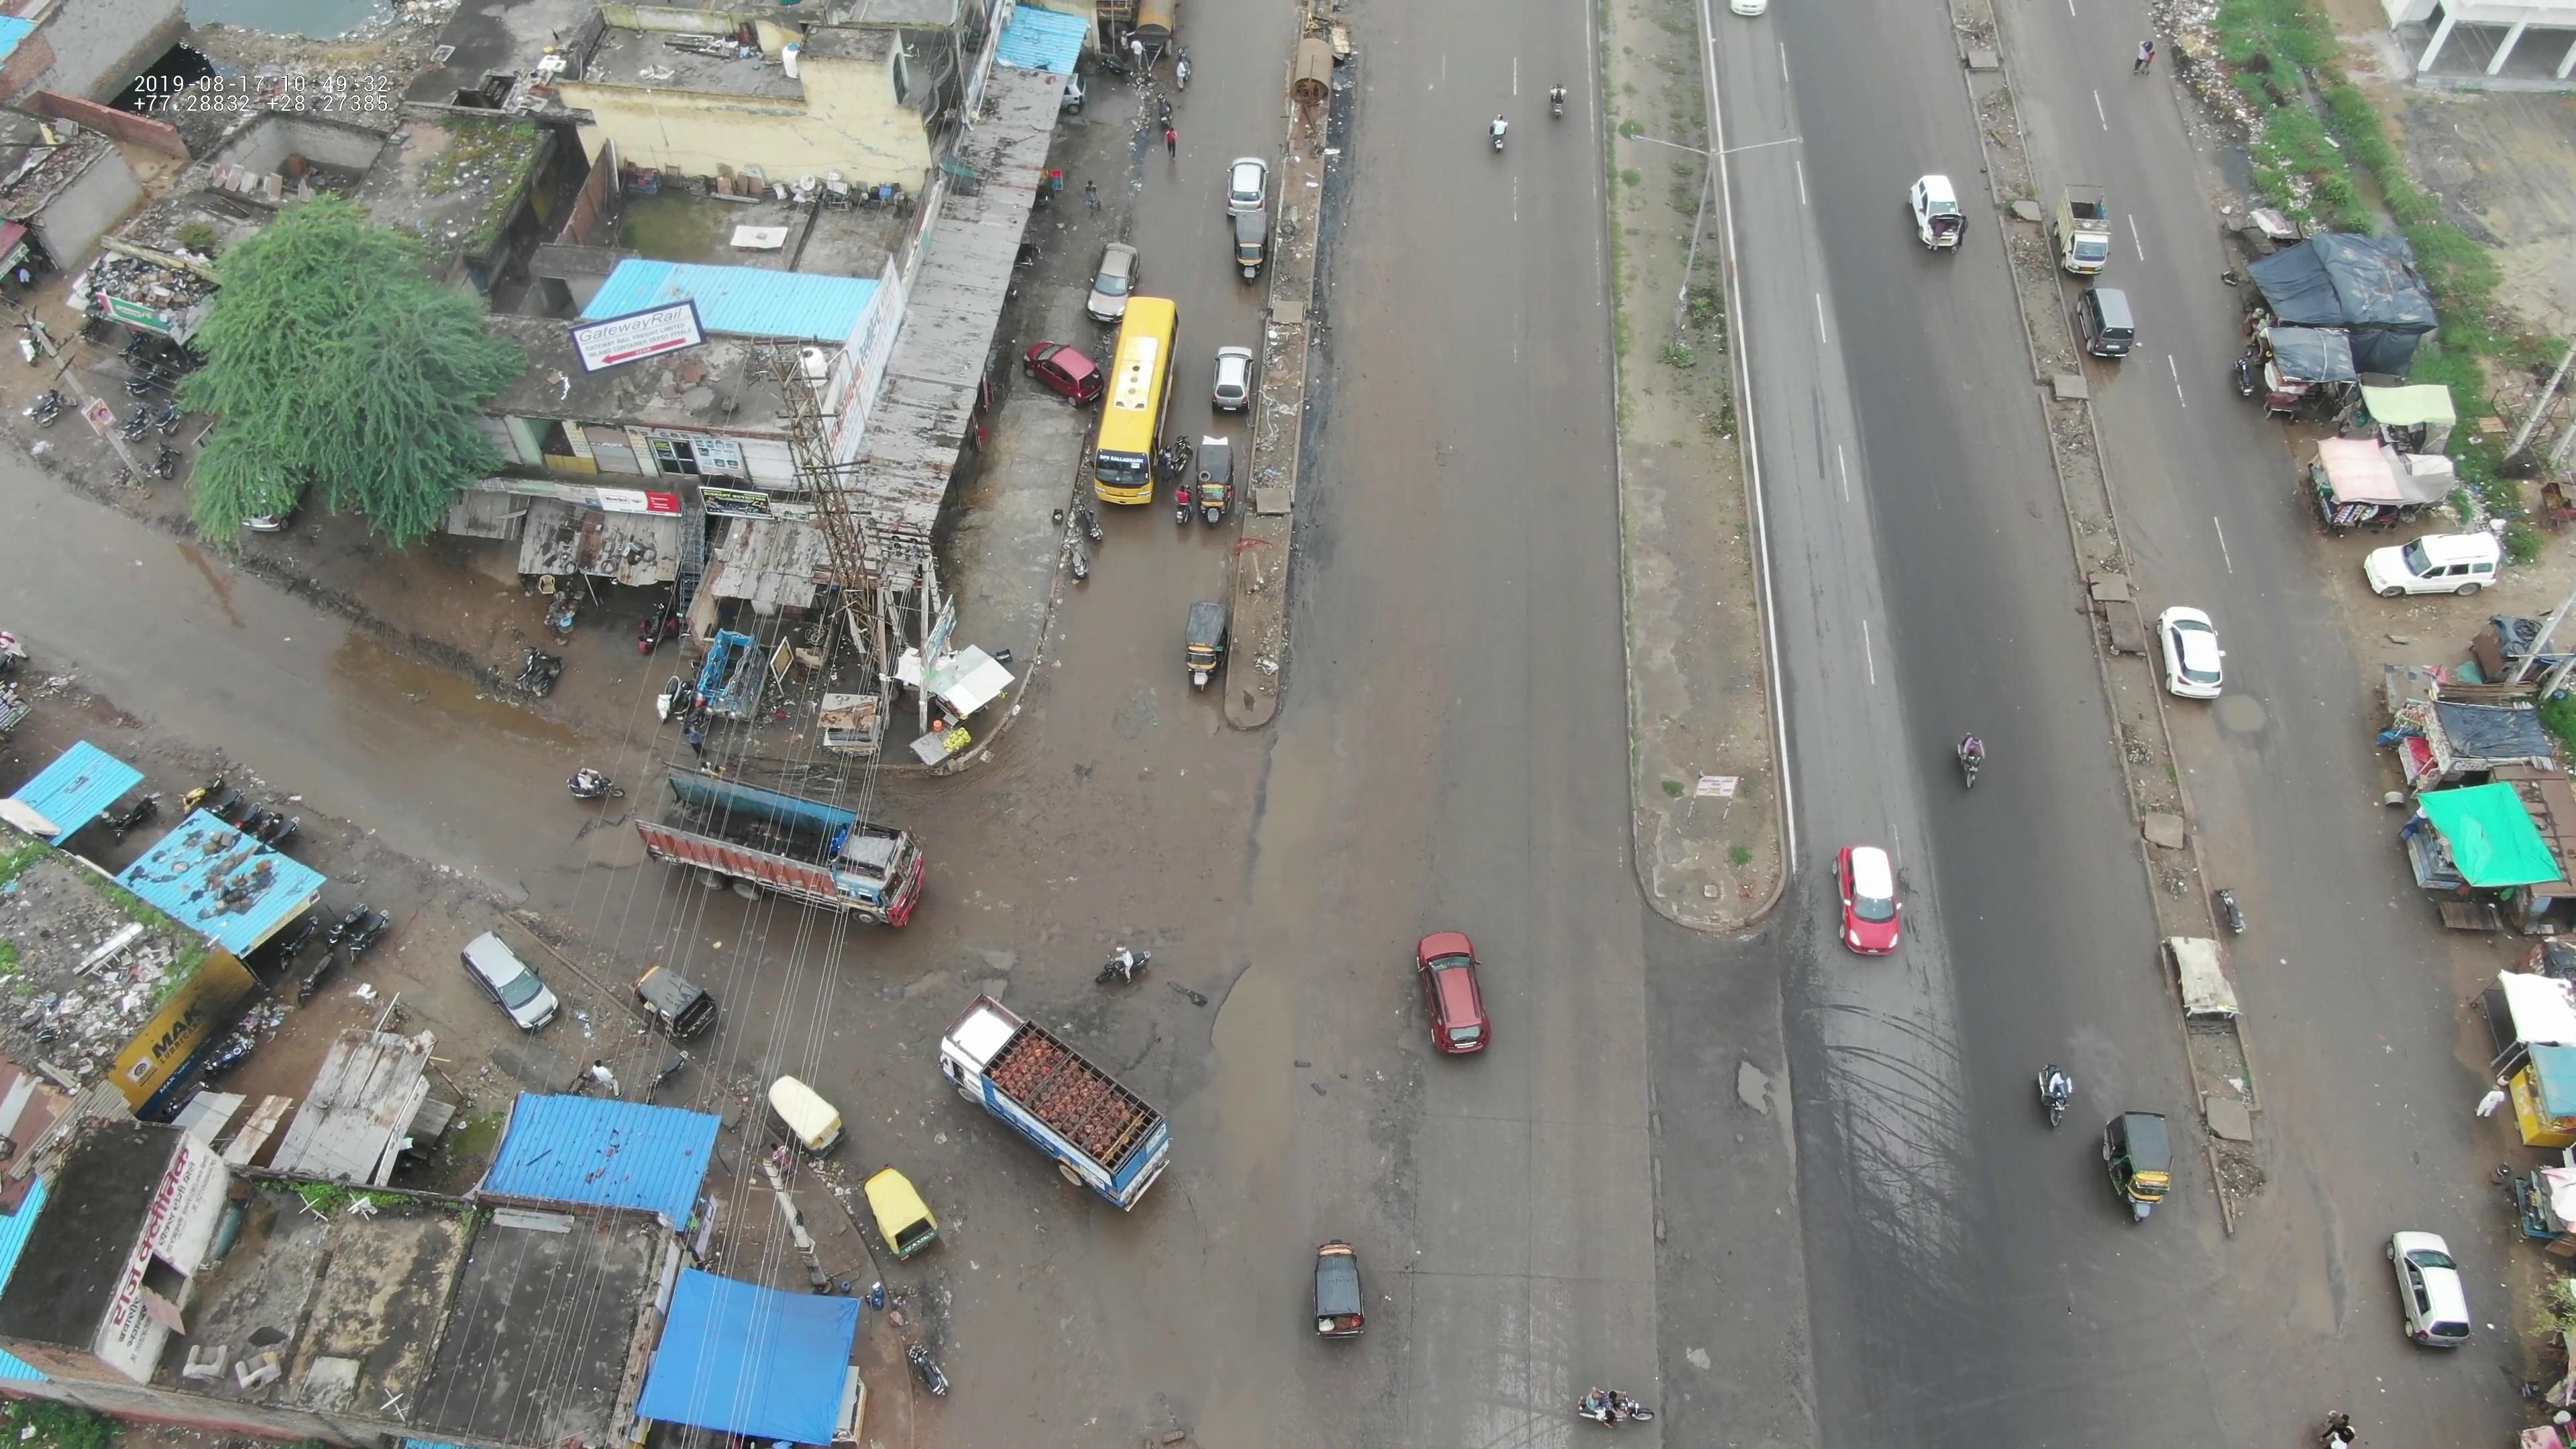Waterlogging: (313, 610, 571, 755)
